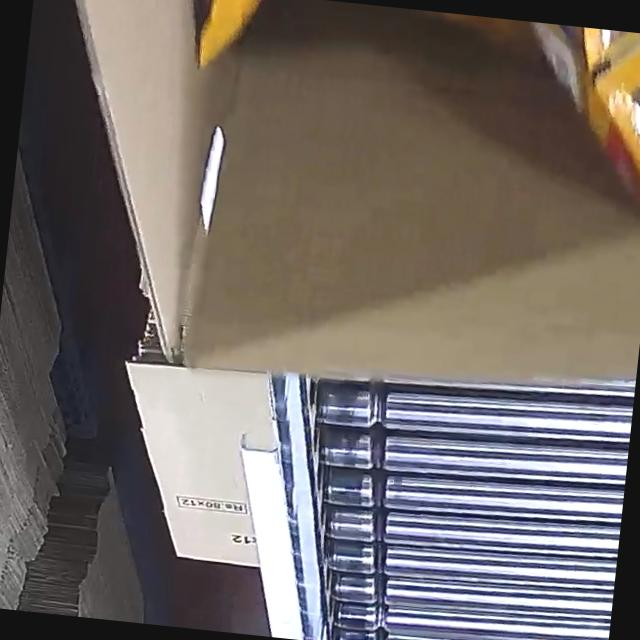cheese: (137, 0, 640, 231)
